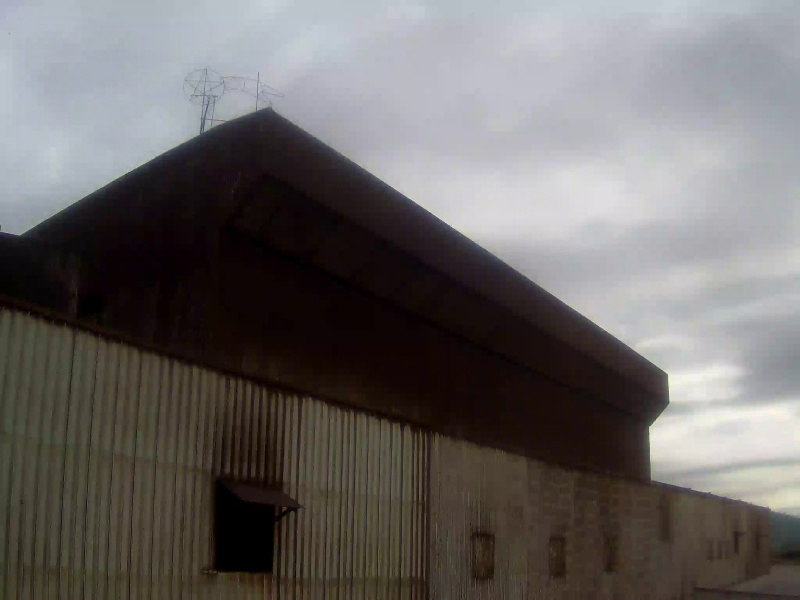bom: (264, 48, 696, 478), (9, 15, 270, 180), (608, 232, 790, 465)
